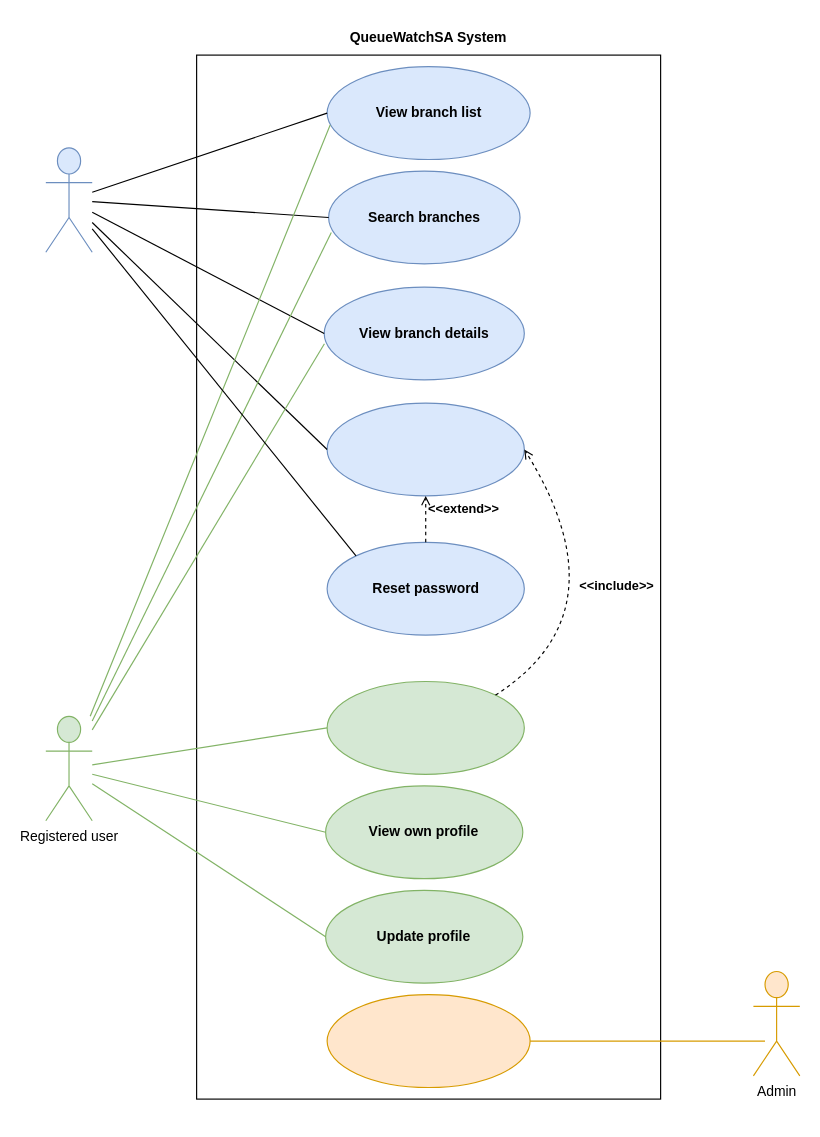
Image size: 820x1137. Some labels were removed from this diagram. Here are the shapes that lost their labels. From the top down, the centre of each, then its label:
point 68,199: Guest
point 425,449: Register/Login
point 425,727: Submit queue report
point 428,1041: Manage reports
